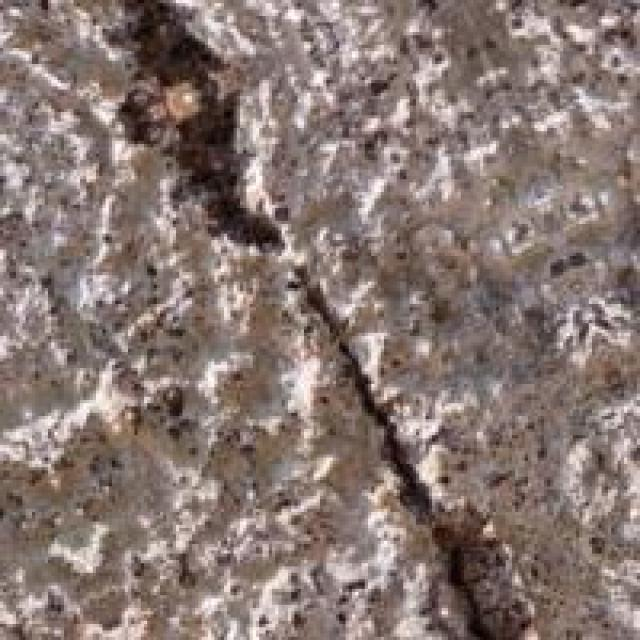Crack: (114, 14, 498, 626)
